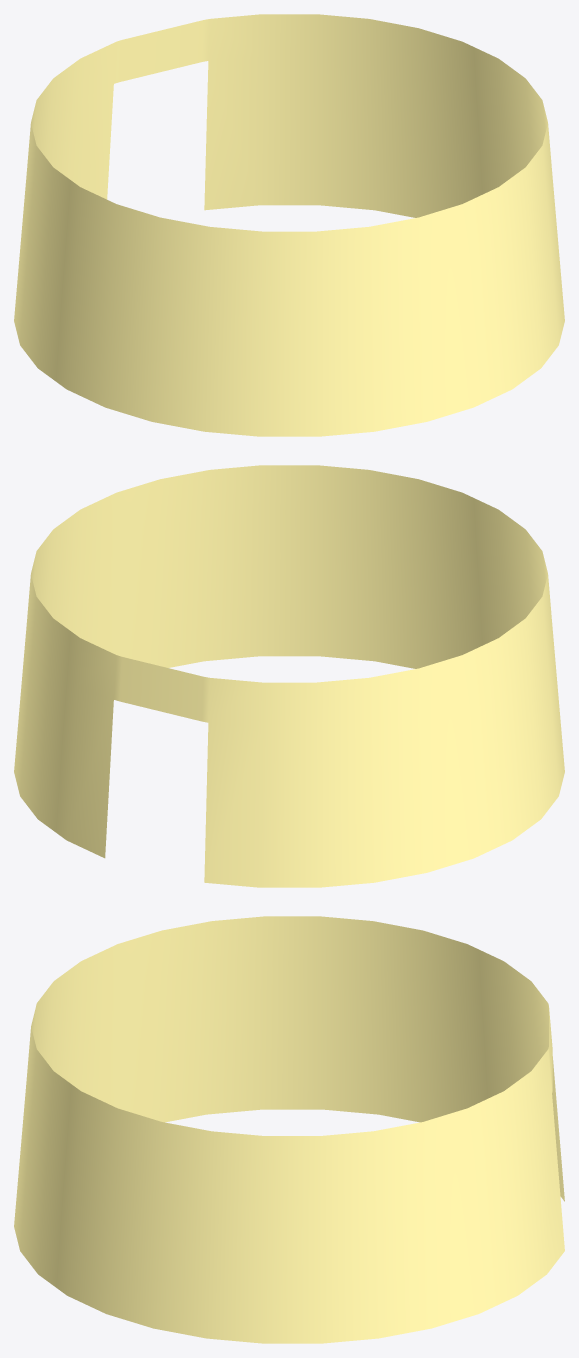
File: wall1.glb
3 renders of one model, top to bottom at view 1: azimuth 30°, elevation 25°; view 2: azimuth 150°, elevation 25°; view 3: azimuth 270°, elevation 25°, orthographic.
Visible parts, largest first — view 1: wall1; view 2: wall1; view 3: wall1.
Part boxes in pixels (bbox=[...]): wall1: bbox=[14, 14, 564, 436]; wall1: bbox=[14, 465, 564, 887]; wall1: bbox=[14, 916, 564, 1343].
Size of the model in its own units: 20.09 by 8.02 by 19.98.
